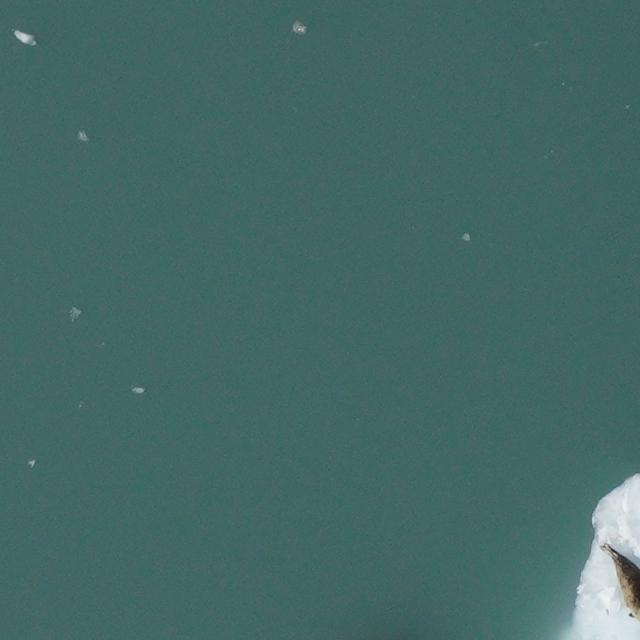seal: (598, 538, 640, 623)
